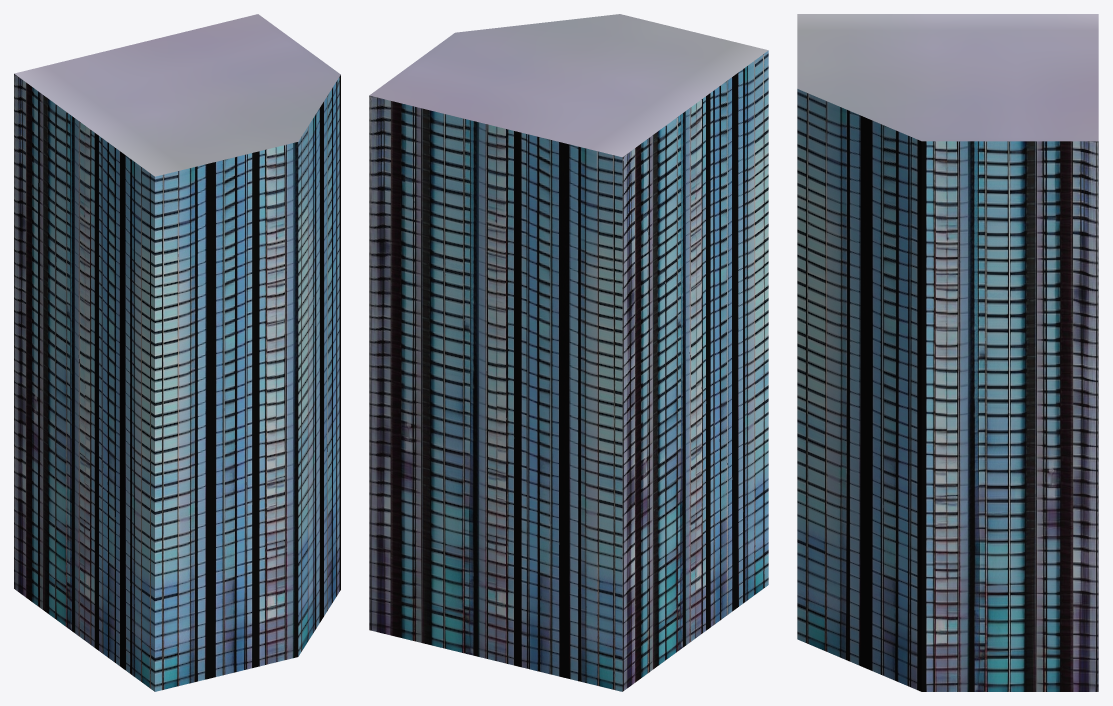
The picture shows the model from 3 angles, left to right: view 1: azimuth 30°, elevation 25°; view 2: azimuth 150°, elevation 25°; view 3: azimuth 270°, elevation 25°; orthographic projection. The views are drawn at different scales.
Parts seen in each view (by area): view 1: B2; view 2: B2; view 3: B2.
Boxes of the visible parts, x1,y1,x2,y2 form: B2: (14,14,340,691); B2: (369,14,768,691); B2: (797,14,1098,691).
Size of the model in its own units: 1286 by 2592 by 1286.
Materials: 1 (1 with a texture image).
